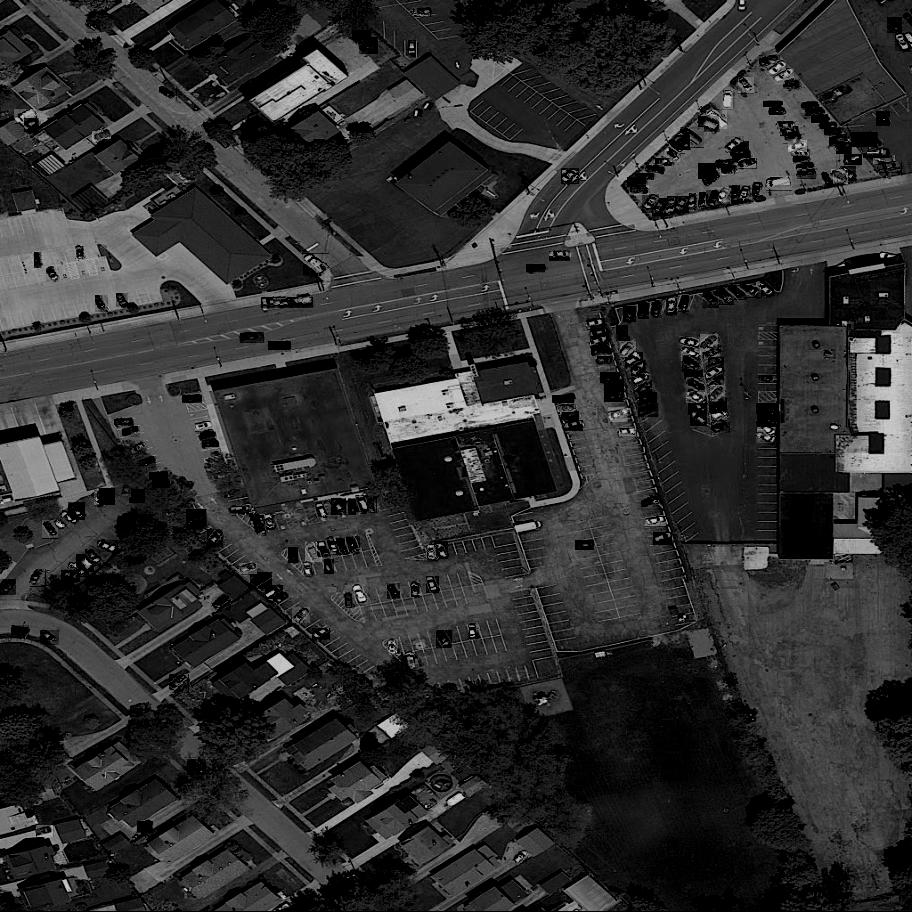large-vehicle: (303, 253, 330, 277), (261, 297, 313, 308), (187, 509, 207, 532), (251, 572, 274, 590), (250, 513, 267, 537), (852, 132, 879, 147), (169, 675, 190, 694), (515, 521, 543, 535), (861, 139, 886, 154), (306, 542, 323, 564), (240, 333, 264, 344), (878, 163, 902, 174), (864, 149, 889, 158), (874, 155, 896, 164), (269, 342, 290, 350)
small-vehicle: (681, 127, 704, 148), (706, 109, 727, 130), (766, 176, 792, 192), (352, 583, 370, 606), (757, 419, 777, 438), (212, 593, 231, 613), (716, 286, 734, 307), (360, 732, 377, 754), (698, 116, 720, 133), (359, 37, 378, 56), (561, 168, 580, 187), (700, 334, 720, 352), (703, 170, 723, 188), (642, 194, 660, 214), (774, 68, 794, 86), (14, 109, 36, 125), (689, 398, 708, 416), (84, 549, 102, 568), (686, 377, 705, 395), (683, 356, 702, 374), (686, 388, 706, 405), (681, 346, 701, 363), (758, 410, 778, 427), (76, 554, 93, 574), (68, 501, 85, 521), (68, 563, 89, 579), (604, 379, 625, 395), (293, 607, 311, 625), (715, 187, 733, 205), (729, 285, 747, 303), (706, 365, 725, 382), (436, 630, 453, 649), (207, 529, 224, 548), (187, 759, 206, 776), (731, 142, 750, 159), (653, 198, 670, 217), (725, 137, 744, 154), (352, 30, 372, 46), (631, 359, 647, 379), (895, 33, 911, 53), (642, 496, 662, 512), (42, 519, 58, 539), (767, 60, 787, 76), (639, 403, 660, 418), (609, 407, 630, 422), (757, 281, 775, 298), (703, 290, 720, 308), (709, 398, 727, 415), (699, 163, 717, 180), (625, 352, 644, 368), (41, 630, 60, 646), (265, 585, 284, 601), (674, 196, 690, 215), (664, 144, 680, 163), (738, 77, 754, 96), (653, 533, 673, 548), (756, 432, 777, 446), (709, 386, 726, 403), (99, 488, 116, 505), (708, 376, 726, 392), (0, 579, 16, 597), (31, 569, 47, 587), (887, 17, 903, 35), (159, 85, 177, 101), (631, 373, 650, 388), (312, 628, 331, 643), (60, 511, 79, 526), (347, 536, 362, 555), (35, 825, 55, 839), (203, 121, 217, 141), (680, 338, 701, 351), (604, 390, 625, 403), (621, 341, 637, 358), (831, 170, 848, 186), (670, 140, 686, 157), (690, 411, 708, 426), (434, 542, 449, 560), (355, 496, 370, 514), (326, 536, 340, 555), (738, 185, 752, 204), (98, 539, 118, 552), (706, 189, 719, 209), (788, 140, 808, 153), (676, 136, 692, 152), (638, 380, 653, 397), (514, 849, 529, 866), (130, 440, 147, 455), (275, 590, 292, 605), (744, 285, 762, 299), (623, 306, 637, 324), (426, 576, 440, 594), (704, 346, 722, 360), (591, 337, 610, 350), (196, 422, 215, 435), (316, 502, 329, 521), (601, 373, 620, 386), (122, 426, 141, 439), (137, 456, 156, 469), (759, 56, 781, 67), (25, 118, 41, 133), (92, 131, 112, 143), (130, 489, 146, 504), (627, 177, 647, 189), (841, 166, 857, 181), (780, 127, 800, 139), (616, 326, 630, 343), (95, 295, 109, 312), (332, 499, 346, 516), (387, 584, 401, 601), (876, 111, 890, 128), (640, 392, 658, 405), (319, 540, 332, 558), (337, 538, 350, 556), (406, 652, 417, 673), (645, 517, 666, 528), (629, 185, 650, 196), (711, 422, 730, 434), (61, 571, 80, 583), (239, 563, 258, 575), (844, 155, 863, 167), (730, 185, 742, 204), (86, 19, 101, 34), (836, 142, 853, 155), (783, 134, 803, 145), (645, 164, 665, 175), (724, 90, 735, 110), (651, 300, 663, 318), (591, 328, 609, 340), (739, 158, 757, 170), (678, 295, 690, 313), (830, 135, 848, 147), (46, 268, 60, 283), (684, 370, 703, 381), (576, 540, 595, 551), (757, 403, 776, 414), (733, 152, 752, 163), (137, 821, 154, 833), (566, 421, 584, 432), (592, 346, 610, 357), (753, 182, 764, 200), (783, 79, 801, 90), (116, 293, 129, 308), (712, 410, 728, 422), (11, 625, 30, 635), (553, 395, 574, 404), (666, 298, 677, 315), (563, 411, 580, 422), (288, 547, 299, 564), (639, 302, 649, 320), (549, 251, 569, 260), (709, 355, 724, 367), (586, 319, 605, 328), (796, 163, 815, 172), (367, 496, 377, 513), (153, 481, 171, 490), (806, 107, 824, 116), (389, 639, 399, 655), (94, 490, 104, 506), (427, 546, 437, 562), (823, 171, 833, 187), (793, 156, 810, 165), (668, 196, 677, 213), (149, 472, 168, 480), (123, 483, 132, 499), (303, 563, 313, 577), (619, 428, 636, 436), (200, 432, 215, 441), (759, 375, 778, 382), (526, 265, 545, 272), (791, 149, 810, 156), (265, 514, 273, 530), (348, 499, 356, 515), (777, 121, 793, 129), (325, 560, 334, 574), (557, 405, 575, 412), (408, 41, 416, 56), (654, 159, 671, 166), (230, 507, 249, 513), (412, 583, 420, 597), (346, 594, 353, 610), (812, 116, 828, 123), (414, 9, 430, 16), (798, 172, 816, 178), (183, 396, 201, 402), (470, 625, 477, 640), (597, 357, 612, 364), (764, 101, 781, 107), (636, 174, 653, 180), (801, 102, 818, 108), (35, 252, 41, 268), (719, 168, 735, 174), (700, 193, 707, 206), (716, 160, 731, 166), (820, 123, 835, 129), (202, 442, 219, 447), (115, 419, 131, 424), (770, 108, 783, 114), (690, 194, 695, 209), (77, 246, 82, 260), (824, 130, 841, 134)
